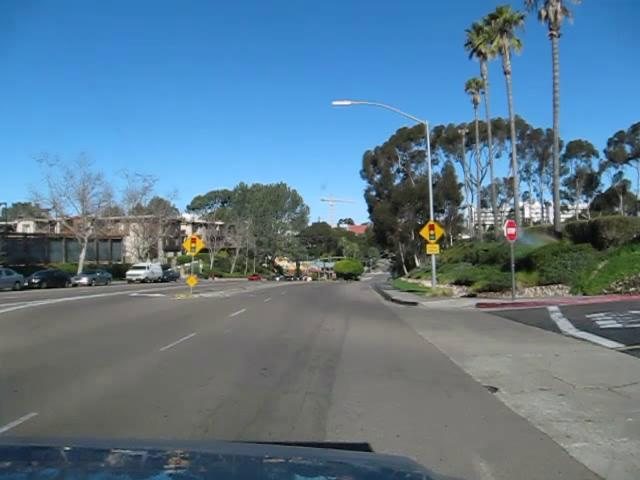signalAhead: (419, 218, 445, 244), (178, 233, 202, 257)
stop: (501, 217, 519, 240)
